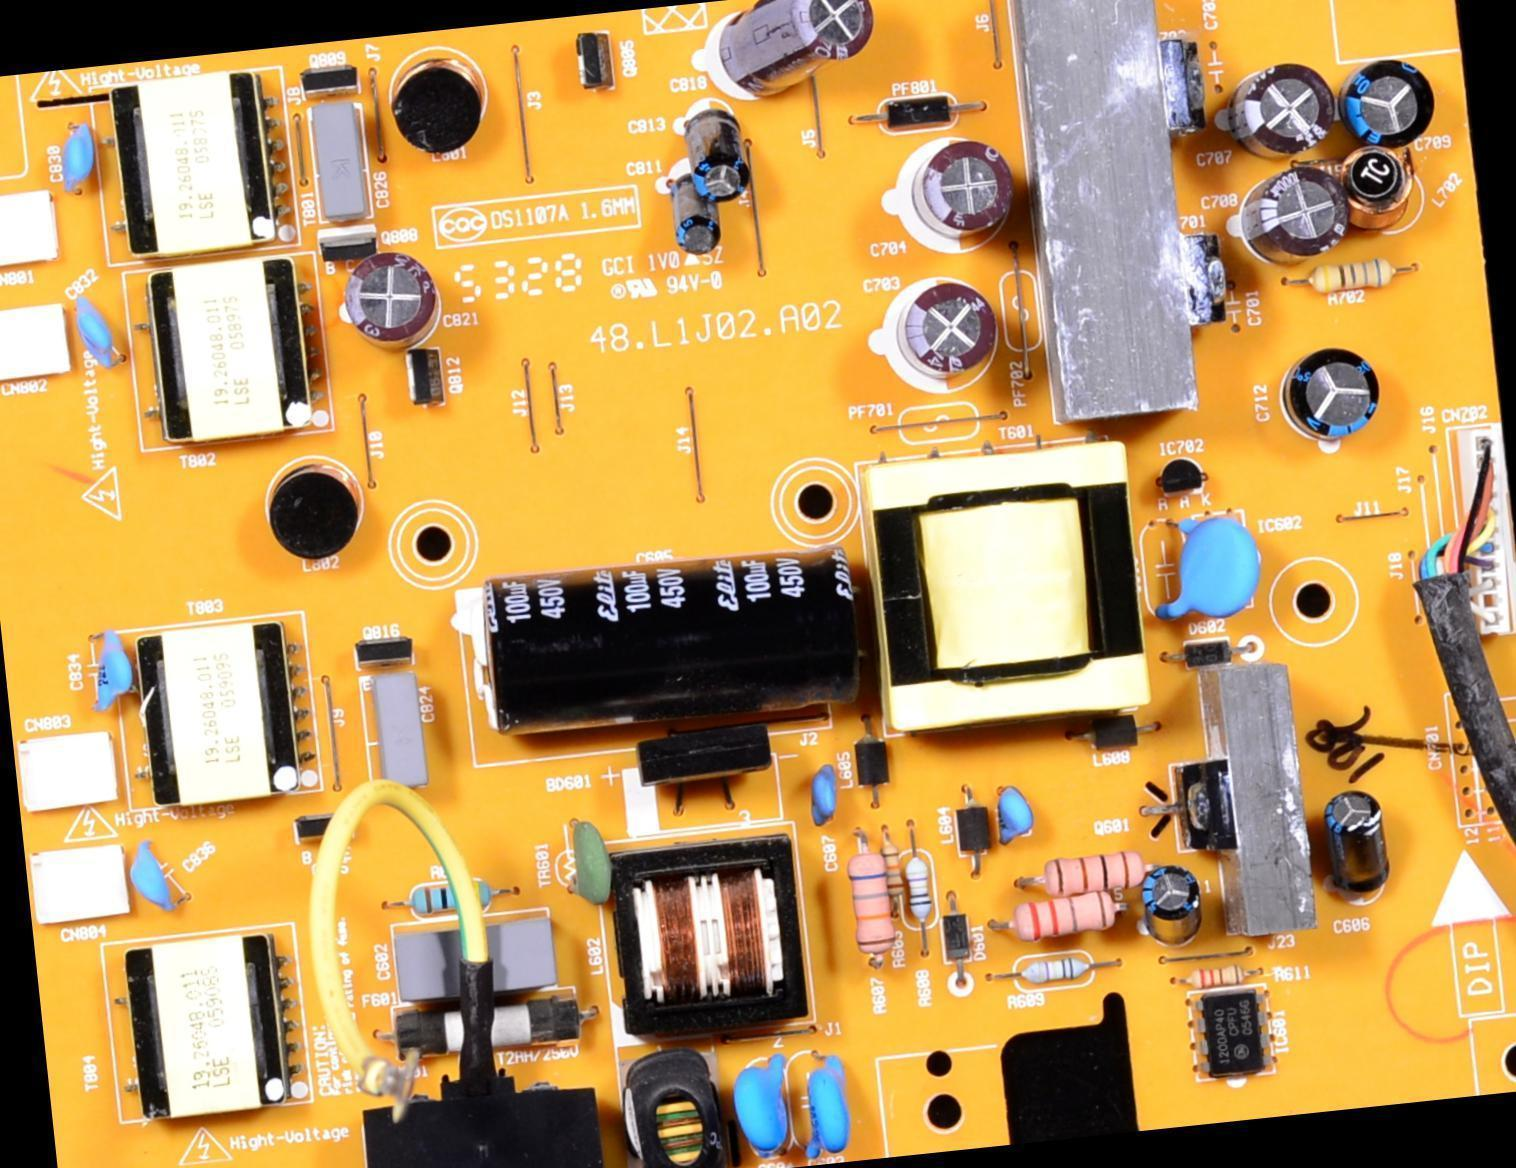Capacitor: (483, 535, 882, 753), (396, 908, 571, 1001), (718, 0, 870, 107), (1153, 505, 1257, 640), (1285, 340, 1386, 455), (1229, 57, 1336, 165), (334, 248, 440, 350), (900, 281, 994, 393), (911, 139, 1019, 232), (1247, 163, 1347, 259), (1337, 55, 1434, 149), (1325, 788, 1395, 898), (735, 1055, 804, 1164), (660, 169, 732, 265), (62, 283, 126, 387), (800, 1052, 864, 1150), (687, 105, 750, 202), (1137, 862, 1202, 940), (84, 632, 140, 716), (125, 838, 184, 919), (990, 772, 1040, 855), (54, 126, 104, 196), (805, 763, 850, 820)
Connector: (23, 831, 155, 936), (12, 721, 146, 823), (23, 824, 165, 917), (11, 715, 134, 816), (0, 179, 107, 283), (0, 299, 71, 400)
IC: (1184, 988, 1300, 1100)
Resistor: (1000, 887, 1141, 951), (1281, 249, 1403, 307), (1039, 850, 1155, 904), (847, 844, 894, 967), (401, 875, 503, 926), (871, 848, 926, 942), (901, 851, 953, 938), (1174, 954, 1276, 998), (1015, 946, 1102, 995)
Transistor: (397, 341, 449, 423), (576, 19, 624, 98), (297, 63, 365, 103)
